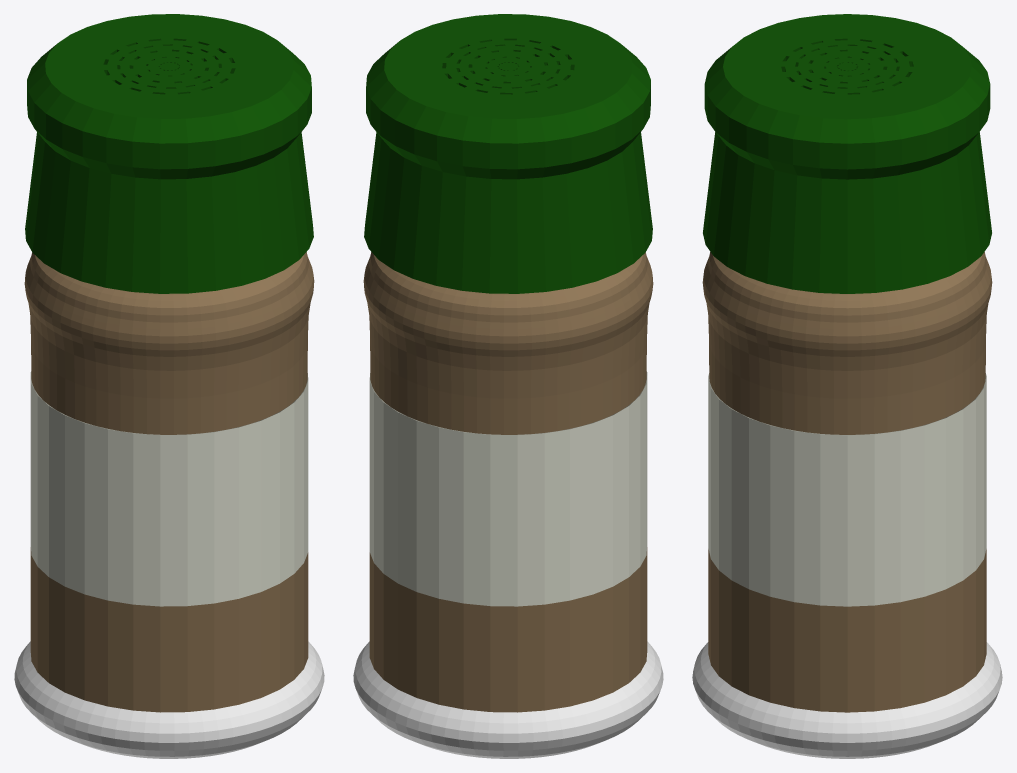
The model's file is groundblackpepper.fbx.
3 renders of one model, left to right at view 1: azimuth 30°, elevation 25°; view 2: azimuth 150°, elevation 25°; view 3: azimuth 270°, elevation 25°, orthographic.
Visible parts, largest first — view 1: Cylinder.001, Cylinder.002, Cylinder.004, Cylinder.003, Cylinder.005; view 2: Cylinder.001, Cylinder.002, Cylinder.004, Cylinder.003, Cylinder.005; view 3: Cylinder.001, Cylinder.002, Cylinder.004, Cylinder.003, Cylinder.005.
Part boxes in pixels (x1,y1,x2,y2): Cylinder.001: [25, 14, 313, 293]; Cylinder.002: [30, 371, 308, 606]; Cylinder.004: [24, 252, 314, 434]; Cylinder.003: [30, 547, 308, 712]; Cylinder.005: [14, 641, 324, 758]; Cylinder.001: [364, 14, 652, 293]; Cylinder.002: [369, 371, 647, 606]; Cylinder.004: [363, 252, 653, 434]; Cylinder.003: [369, 547, 647, 712]; Cylinder.005: [353, 641, 663, 758]; Cylinder.001: [703, 14, 991, 293]; Cylinder.002: [708, 373, 986, 606]; Cylinder.004: [702, 252, 992, 434]; Cylinder.003: [708, 549, 986, 712]; Cylinder.005: [692, 642, 1002, 758].
Size of the model in its own units: 155 by 354 by 155.
